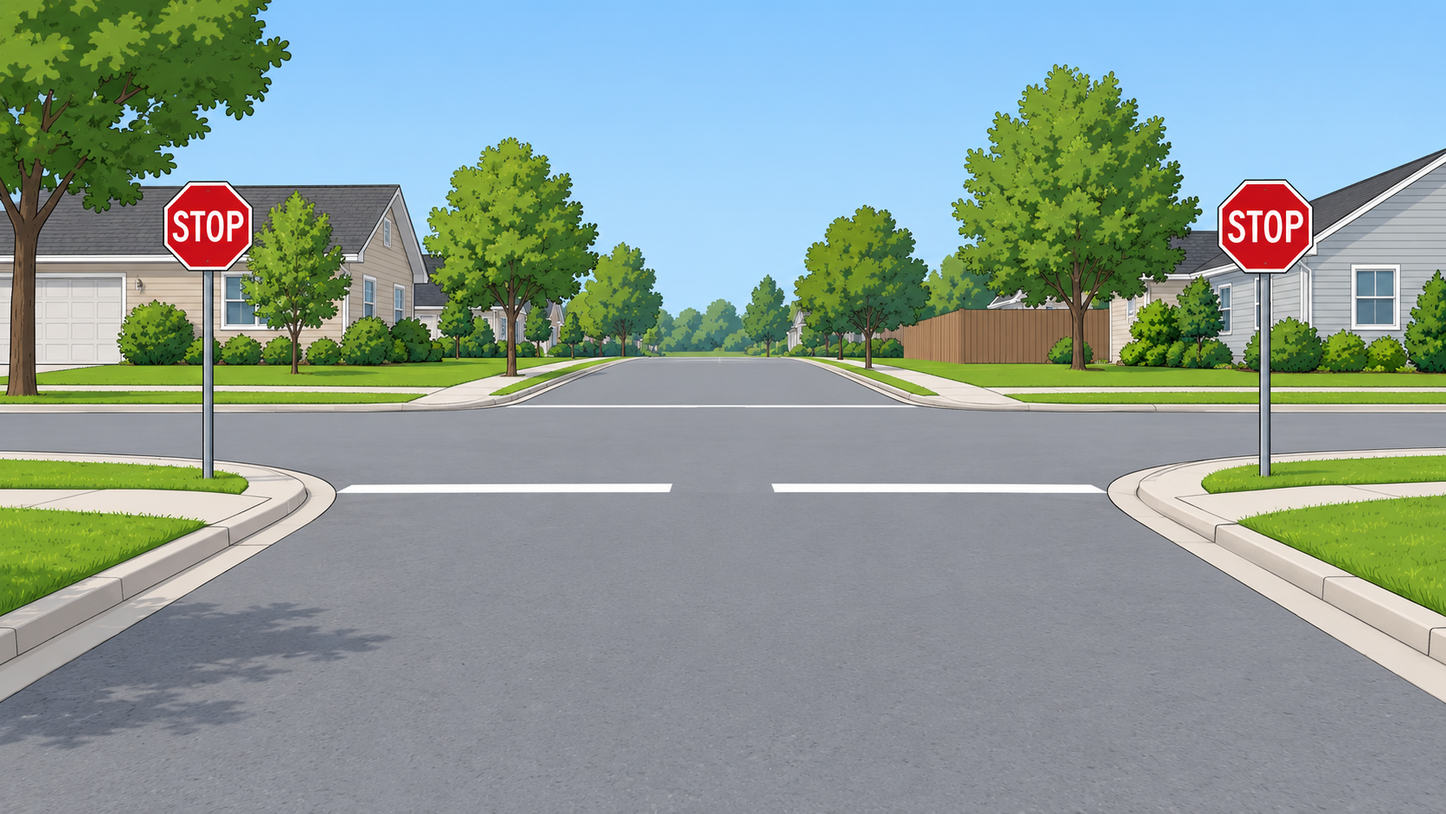bus: (708, 302, 1097, 458)
crossing_warning_sign: (1178, 159, 1314, 267)
traffic_light: (275, 69, 323, 183)
zebra_crossing: (0, 476, 1029, 513)
